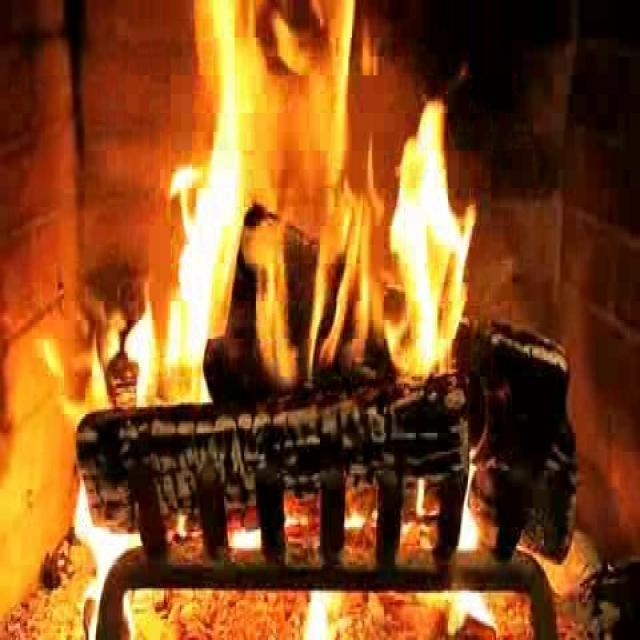Fire: (154, 14, 484, 442)
